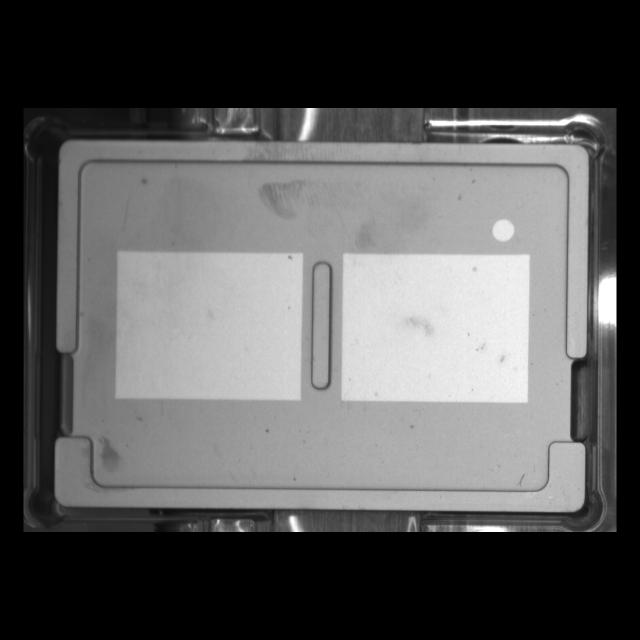door: (41, 422, 598, 522)
point: (484, 211, 523, 250)
